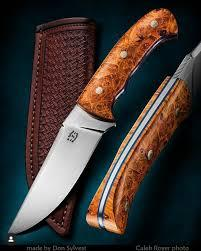knives: (9, 6, 182, 244), (27, 6, 49, 175)
